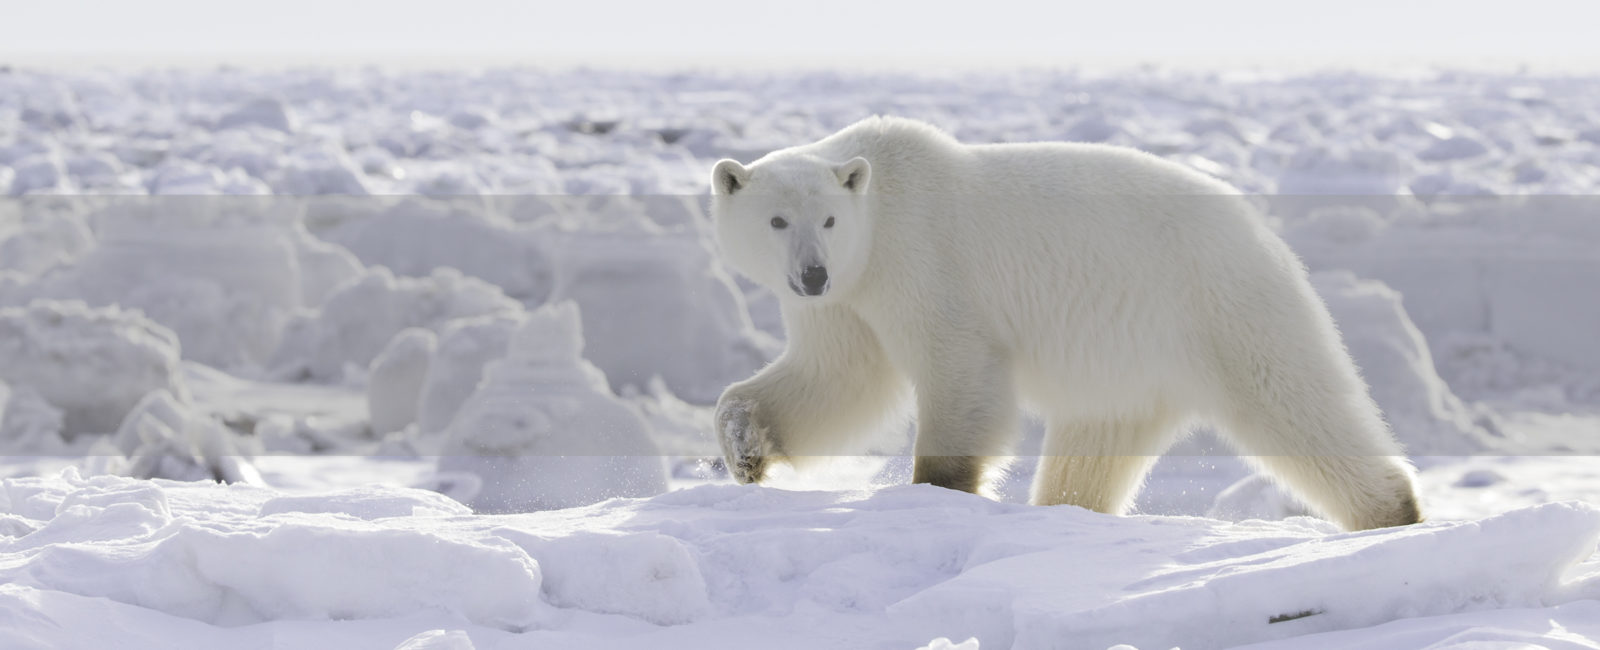Polar Bear: (670, 117, 1427, 573)
